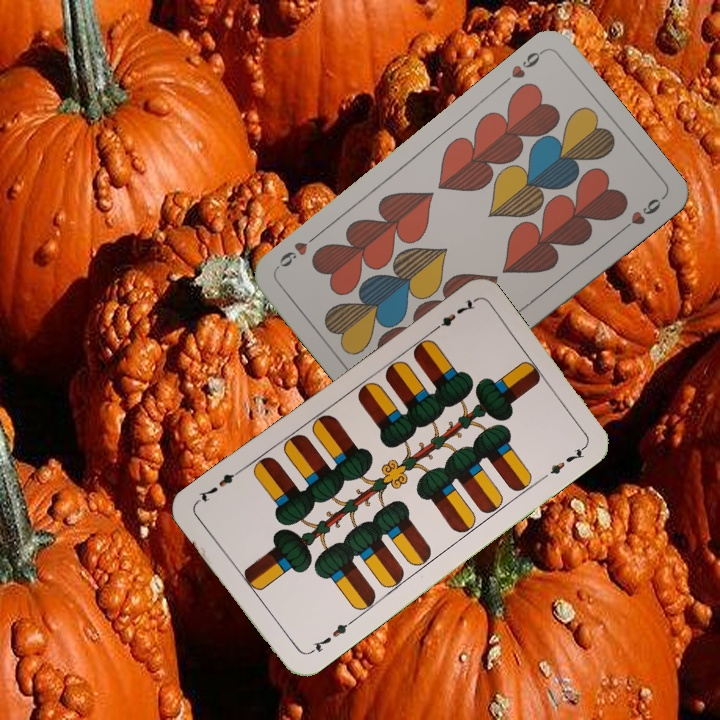E7: (426, 295, 478, 336), (305, 616, 355, 657)
H9: (497, 45, 547, 88)
